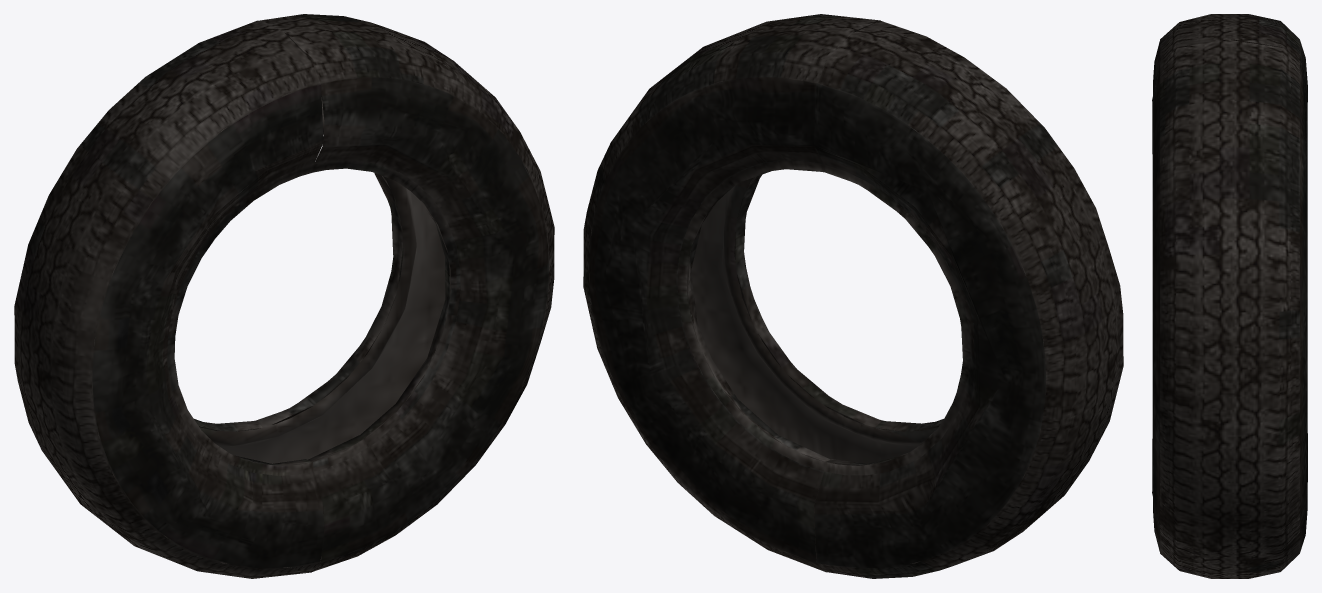
Rendered from ph_old_tyre.glb.
The picture shows the model from 3 angles, left to right: view 1: azimuth 30°, elevation 25°; view 2: azimuth 150°, elevation 25°; view 3: azimuth 270°, elevation 25°; orthographic projection. The views are drawn at different scales.
Visible parts, largest first — view 1: old_tyre; view 2: old_tyre; view 3: old_tyre.
Part boxes in pixels (x1,y1,x2,y2): old_tyre: (14, 14, 554, 578); old_tyre: (583, 14, 1123, 578); old_tyre: (1152, 14, 1307, 578).
Size of the model in its own units: 0.5996 by 0.6035 by 0.1657.
Materials: 1 (1 with a texture image).
